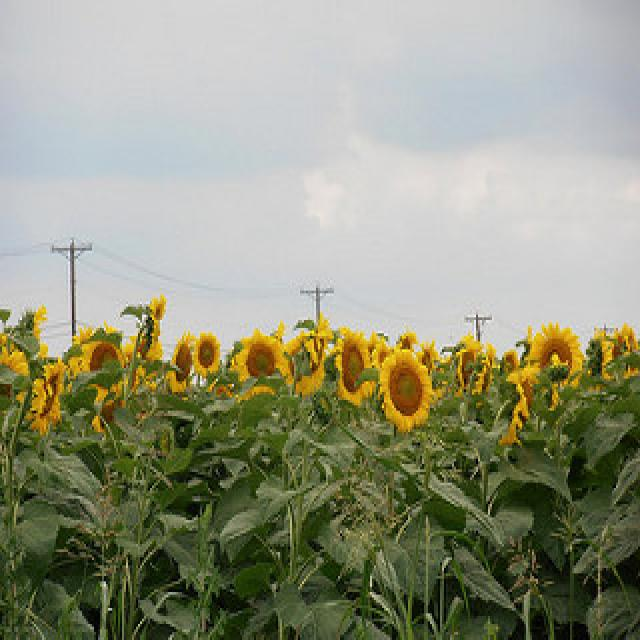sunflower: (67, 318, 131, 406), (520, 317, 584, 400), (379, 345, 433, 439), (21, 355, 69, 440), (276, 331, 330, 405), (333, 323, 379, 408), (598, 311, 640, 385), (454, 331, 496, 405), (0, 332, 34, 415), (234, 330, 282, 386), (497, 392, 539, 453), (167, 327, 193, 396), (192, 327, 224, 377), (133, 324, 165, 364), (369, 328, 391, 373), (417, 336, 443, 371), (148, 291, 170, 325), (391, 327, 415, 356), (500, 344, 520, 373)
